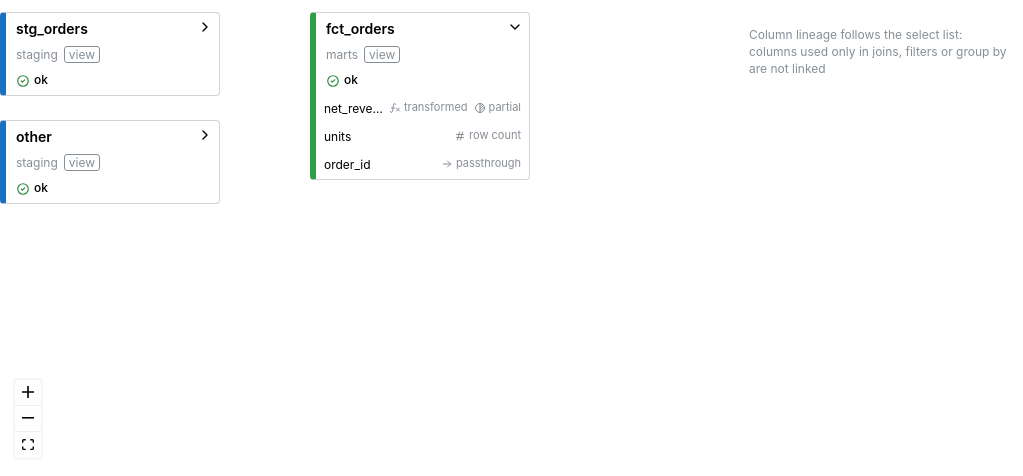
LineageCanvas › column focus › clicking a column focuses it and dims the unrelated nodes
Click the button "net_revenue transformed partial" at (422, 109), box [316,95,529,123]
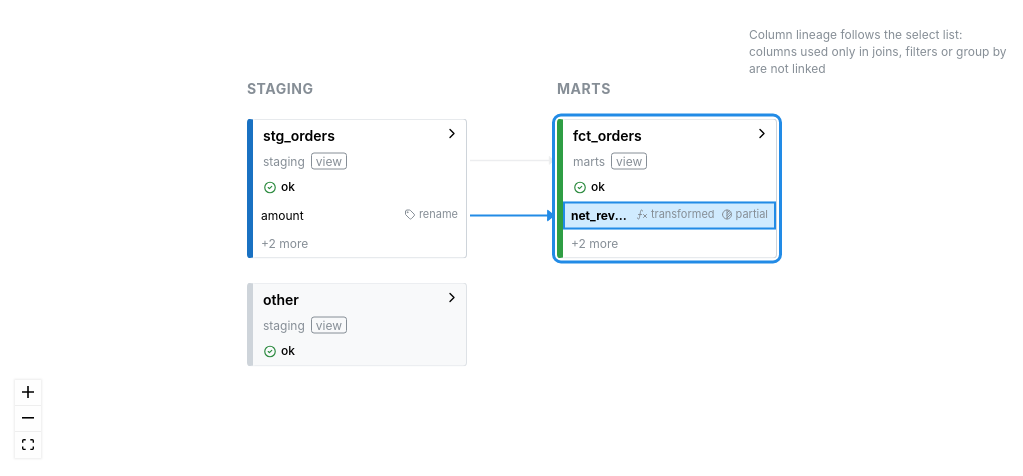
Now the button "amount rename" is shown, box [253,202,466,230]
